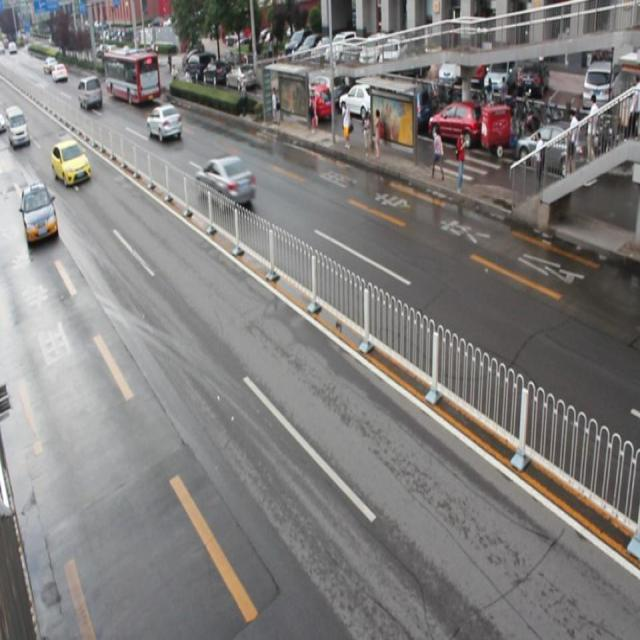car: (196, 154, 256, 212), (20, 178, 58, 244), (51, 138, 92, 186), (148, 101, 184, 142)
